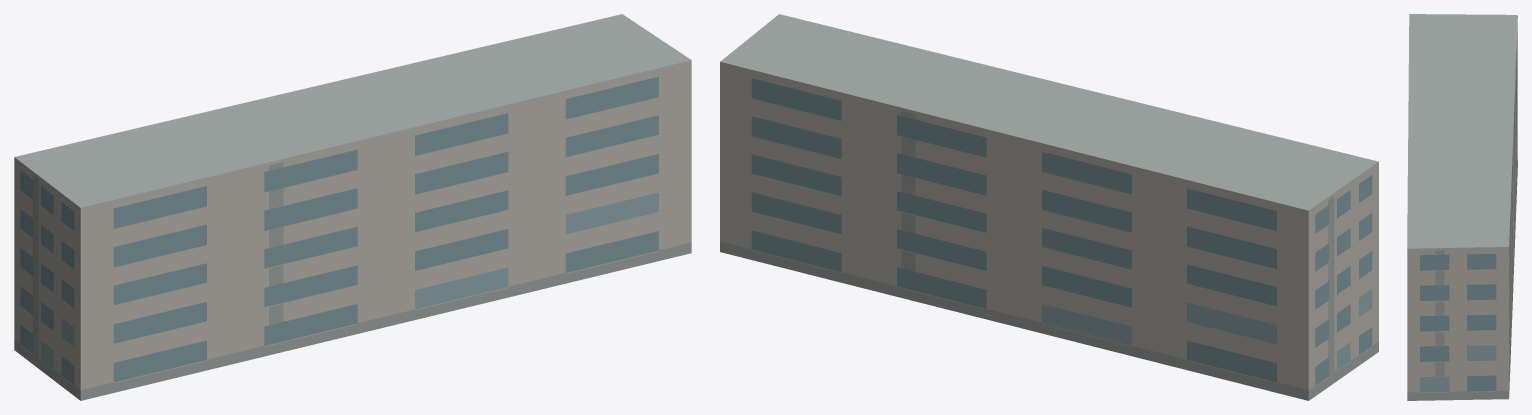
File: residential-9c13fcc2-4d2e-43f6-8b3c-6cdccc4c2de5.glb
The picture shows the model from 3 angles, left to right: view 1: azimuth 30°, elevation 25°; view 2: azimuth 150°, elevation 25°; view 3: azimuth 270°, elevation 25°; orthographic projection. The views are drawn at different scales.
Visible parts, largest first — view 1: residential-9c13fcc2-4d2e-43f6-8b3c-6cdccc4c2de5.tmp; view 2: residential-9c13fcc2-4d2e-43f6-8b3c-6cdccc4c2de5.tmp; view 3: residential-9c13fcc2-4d2e-43f6-8b3c-6cdccc4c2de5.tmp.
Part boxes in pixels (<box>): residential-9c13fcc2-4d2e-43f6-8b3c-6cdccc4c2de5.tmp: <box>14,14,691,400</box>; residential-9c13fcc2-4d2e-43f6-8b3c-6cdccc4c2de5.tmp: <box>720,14,1378,400</box>; residential-9c13fcc2-4d2e-43f6-8b3c-6cdccc4c2de5.tmp: <box>1407,14,1517,400</box>.
Bounding box in the file's own units: 50.42 × 15.25 × 10.05.
